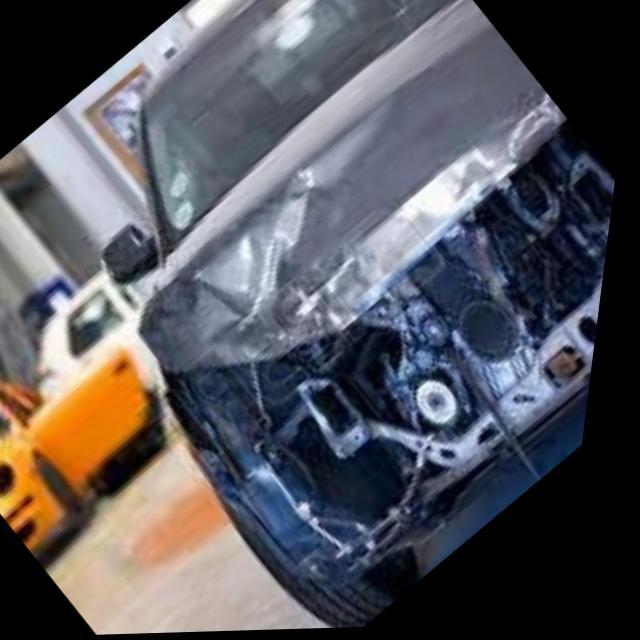no part: (151, 28, 620, 587)
